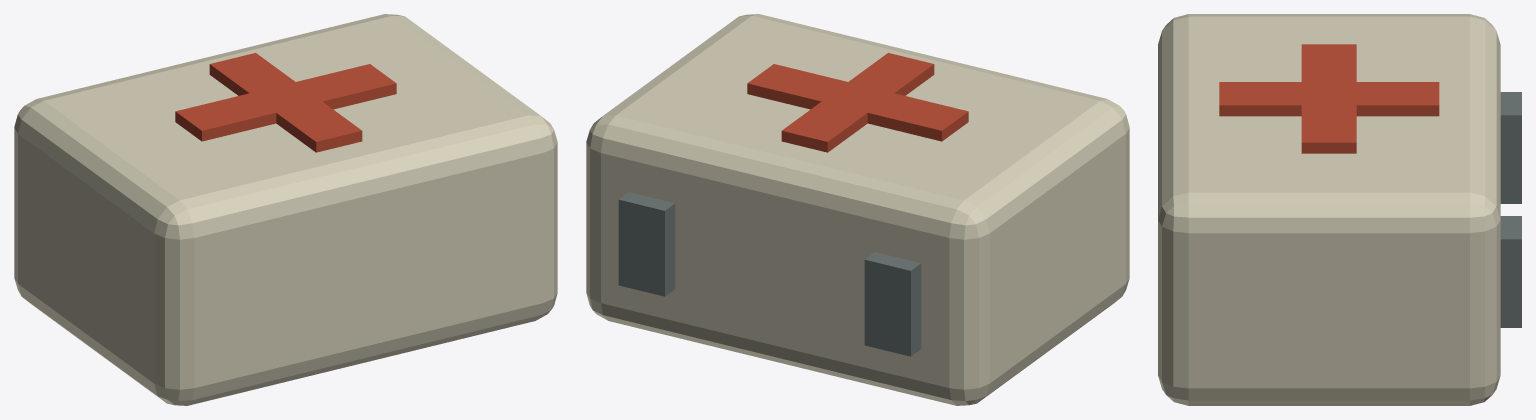
Rendered from medkit.glb.
3 renders of one model, left to right at view 1: azimuth 30°, elevation 25°; view 2: azimuth 150°, elevation 25°; view 3: azimuth 270°, elevation 25°, orthographic. The views are drawn at different scales.
Visible parts, largest first — view 1: medkit; view 2: medkit; view 3: medkit.
Boxes of the visible parts, x1,y1,x2,y2 form: medkit: (14,14,557,405); medkit: (586,14,1129,405); medkit: (1158,14,1521,405).
Bounding box in the file's own units: 0.39 × 0.2 × 0.2975.
